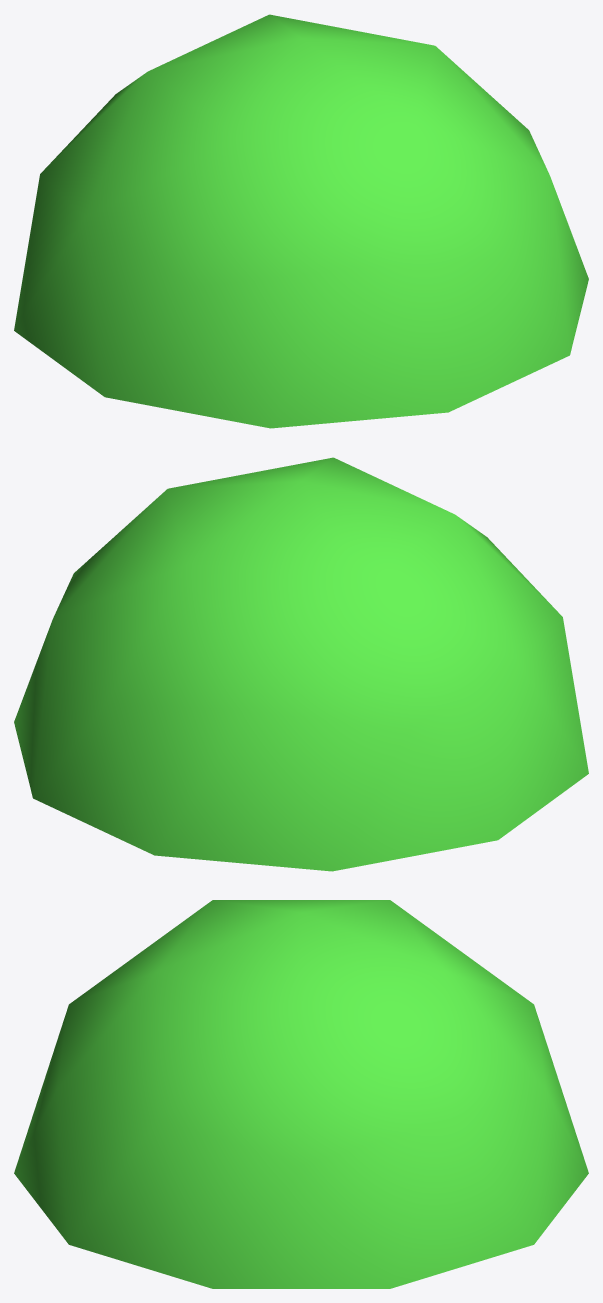
File: VerySmallRoundBush.fbx
3 renders of one model, top to bottom at view 1: azimuth 30°, elevation 25°; view 2: azimuth 150°, elevation 25°; view 3: azimuth 270°, elevation 25°, orthographic. The views are drawn at different scales.
Visible parts, largest first — view 1: Icosphere_LOD0; view 2: Icosphere_LOD0; view 3: Icosphere_LOD0.
Boxes of the visible parts, x1=… form: Icosphere_LOD0: x1=14, y1=14, x2=588, y2=428; Icosphere_LOD0: x1=14, y1=457, x2=588, y2=871; Icosphere_LOD0: x1=14, y1=900, x2=588, y2=1288.
Size of what is drawn, in the model's own units: 105 by 55.11 by 110.
